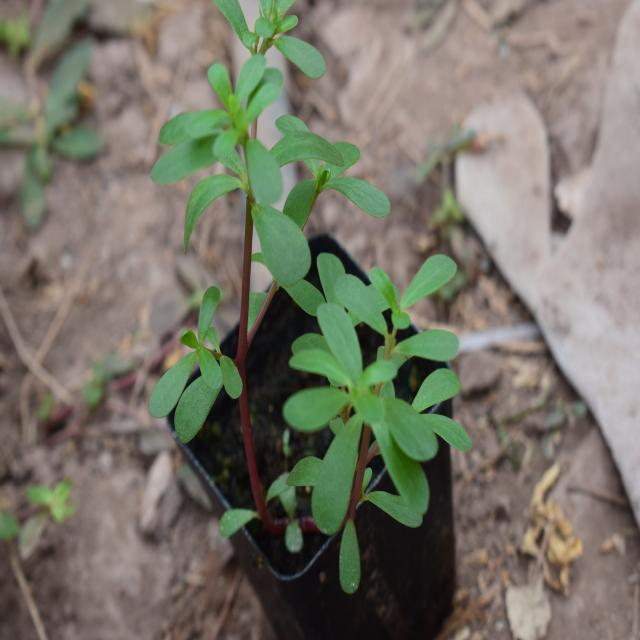purslane: (163, 3, 495, 562)
